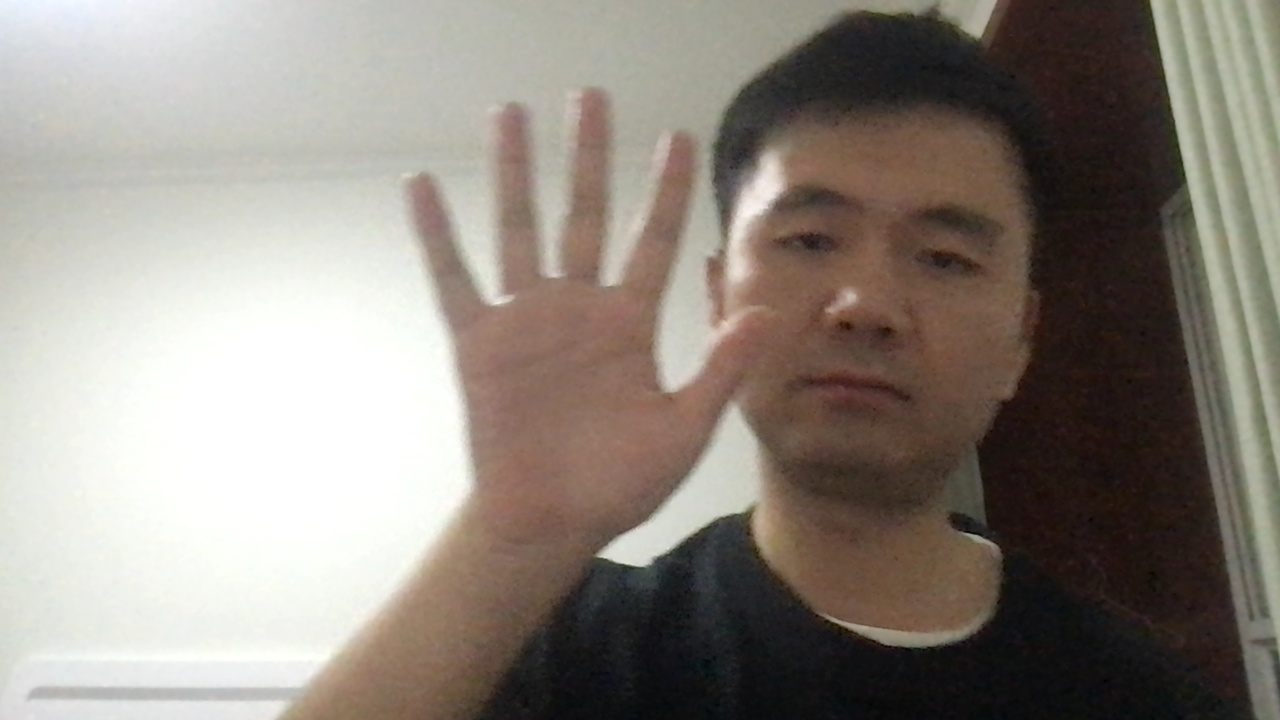hello: (390, 81, 774, 538)
